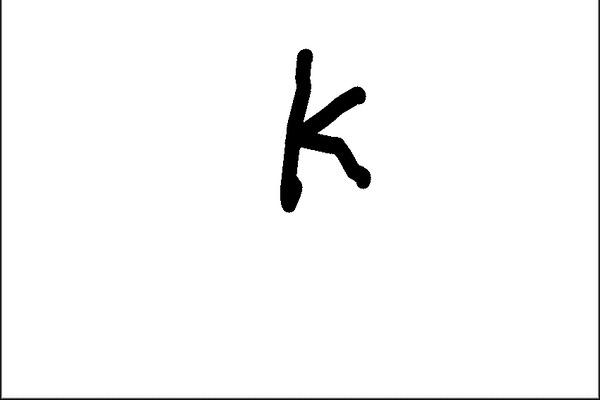K: (274, 42, 379, 218)
